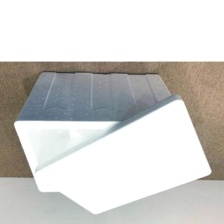foam_box: (9, 67, 214, 219), (30, 91, 214, 218)
